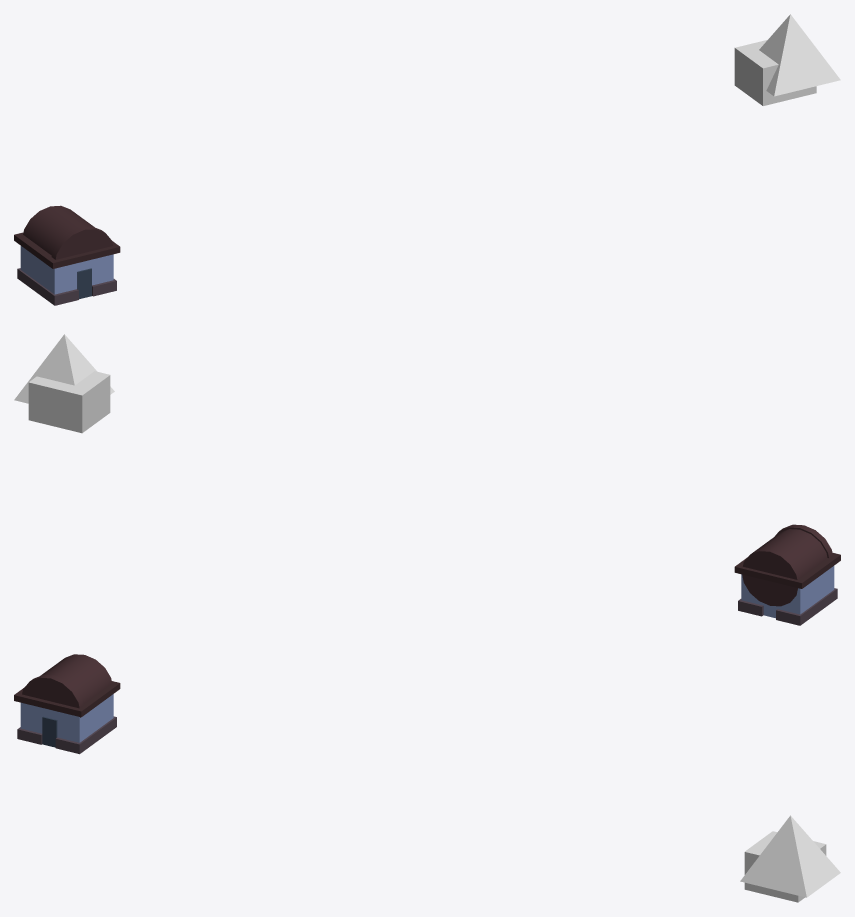
File: dom6.fbx
The picture shows the model from 3 angles, top to bottom: view 1: azimuth 30°, elevation 25°; view 2: azimuth 150°, elevation 25°; view 3: azimuth 330°, elevation 25°; orthographic projection.
Parts seen in each view (by area): view 1: Ostrosłup, Sześcian, Sześcian_1, dach_2, dach, Sześcian_5, Sześcian_2; view 2: Sześcian, dach_2, Ostrosłup, Sześcian_1, Sześcian_5, Sześcian_2; view 3: Ostrosłup, Sześcian_1, dach_2, dach, Sześcian_5, Sześcian, Sześcian_3.
Boxes of the visible parts, x1=… form: Ostrosłup: x1=759, y1=14, x2=840, y2=96; Sześcian: x1=734, y1=39, x2=816, y2=105; Sześcian_1: x1=20, y1=246, x2=113, y2=294; dach_2: x1=23, y1=205, x2=94, y2=255; dach: x1=51, y1=226, x2=113, y2=259; Sześcian_5: x1=14, y1=232, x2=120, y2=268; Sześcian_2: x1=17, y1=268, x2=78, y2=305; Sześcian: x1=28, y1=371, x2=110, y2=433; dach_2: x1=742, y1=529, x2=827, y2=606; Ostrosłup: x1=14, y1=334, x2=114, y2=403; Sześcian_1: x1=741, y1=566, x2=834, y2=618; Sześcian_5: x1=734, y1=553, x2=840, y2=588; Sześcian_2: x1=776, y1=588, x2=837, y2=625; Ostrosłup: x1=740, y1=815, x2=840, y2=897; Sześcian_1: x1=20, y1=694, x2=113, y2=742; dach_2: x1=40, y1=654, x2=111, y2=703; dach: x1=22, y1=675, x2=83, y2=717; Sześcian_5: x1=14, y1=681, x2=120, y2=717; Sześcian: x1=744, y1=831, x2=826, y2=902; Sześcian_3: x1=55, y1=716, x2=116, y2=754.
Size of the model in its own units: 2677 by 305 by 228.
